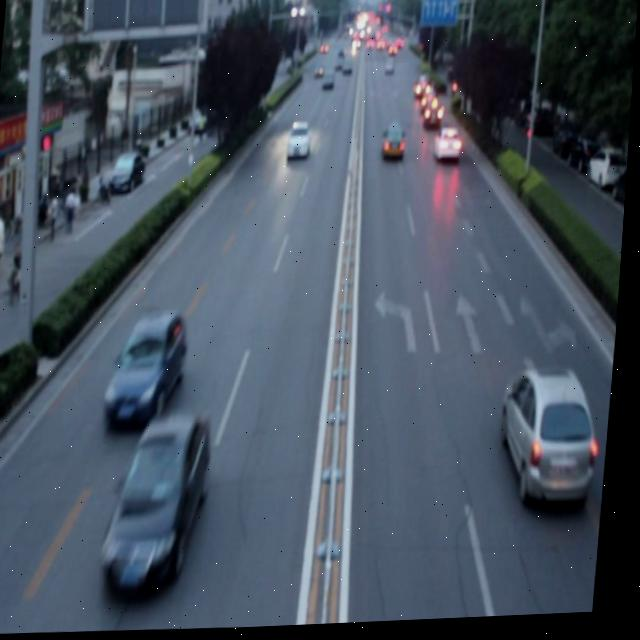car: (105, 412, 213, 599), (501, 367, 606, 513), (107, 315, 193, 430), (285, 121, 314, 164), (435, 128, 464, 165), (382, 123, 409, 161), (423, 103, 445, 132)
